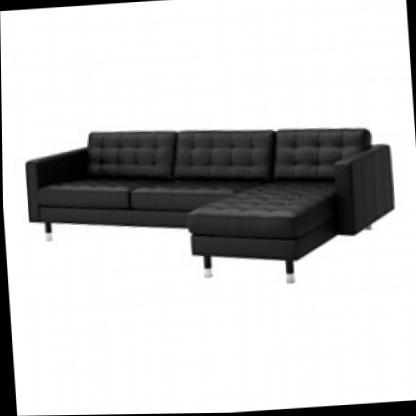Sofa: (14, 72, 402, 302)
